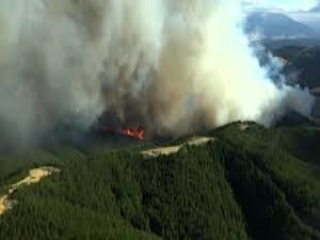fire: (115, 123, 147, 142)
smoke: (143, 3, 302, 141), (24, 3, 138, 125)
